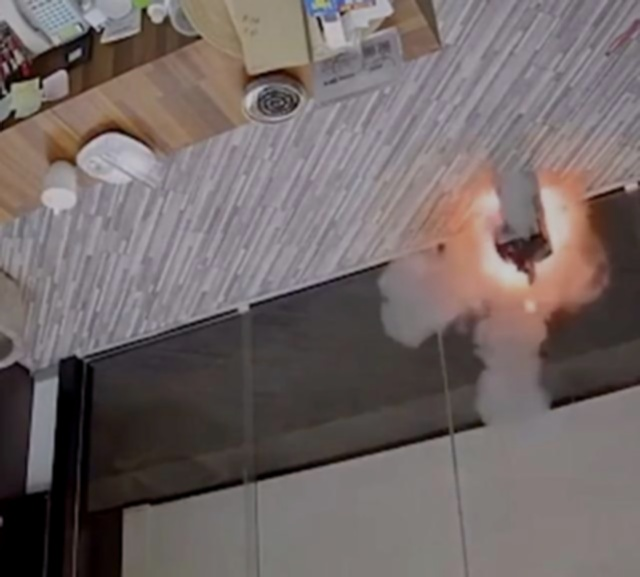fire: (476, 178, 580, 292)
smoke: (446, 302, 584, 431)
